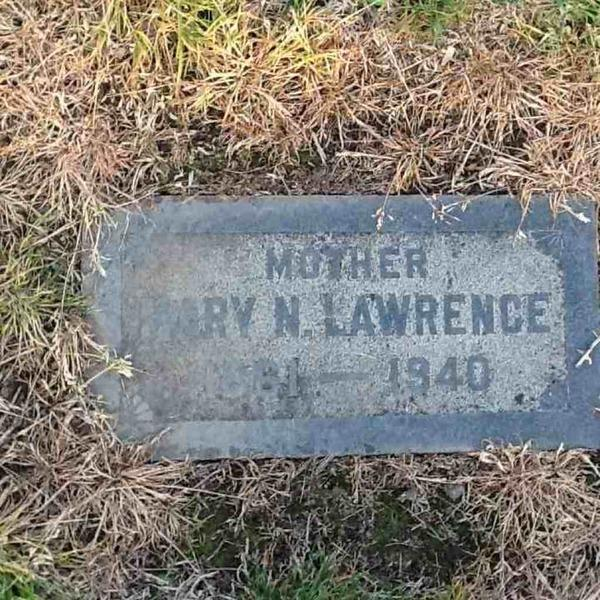flat: (74, 184, 599, 456)
